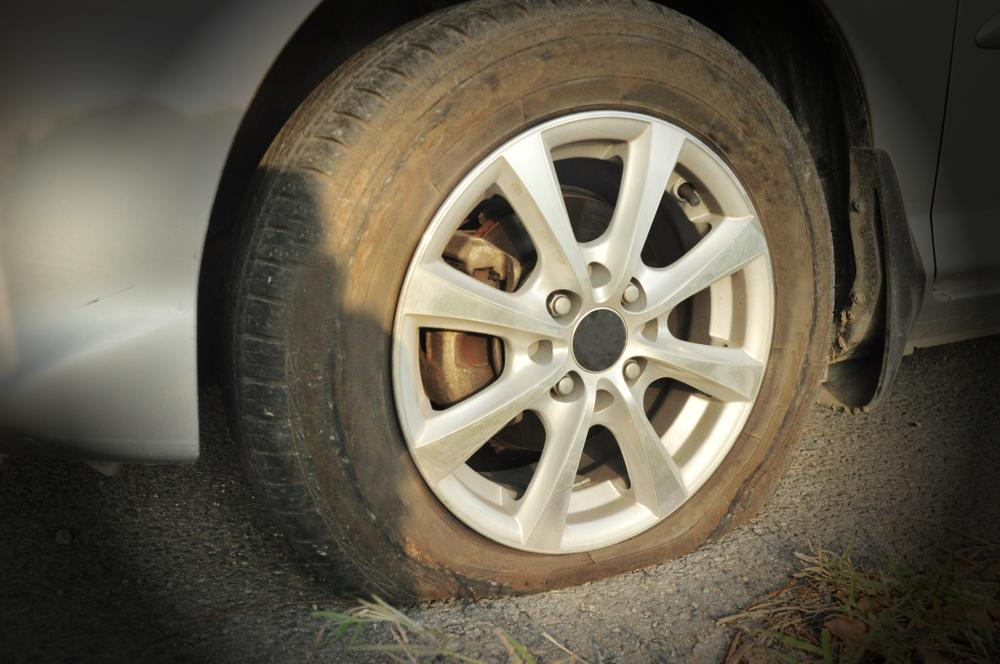tire flat: (227, 0, 836, 609)
